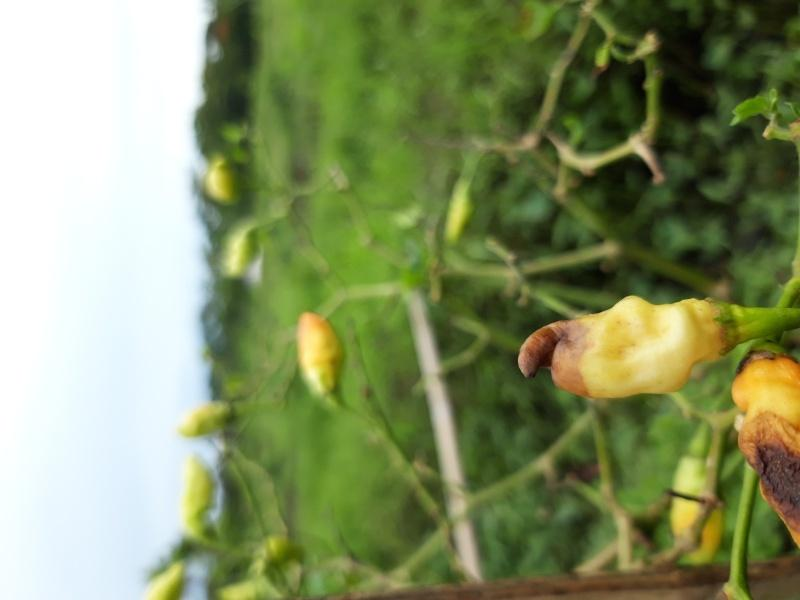antraknosa: (517, 294, 723, 402), (731, 358, 800, 546)
